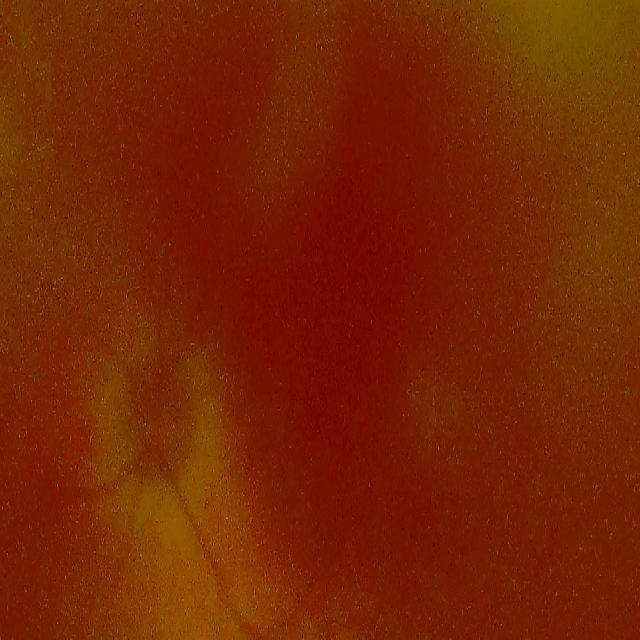optic-nerve: (100, 310, 218, 524)
